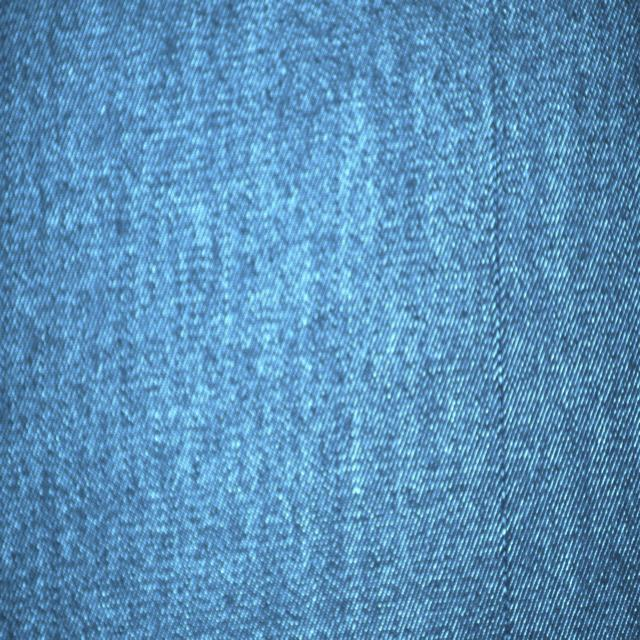Line: (489, 1, 512, 638)
